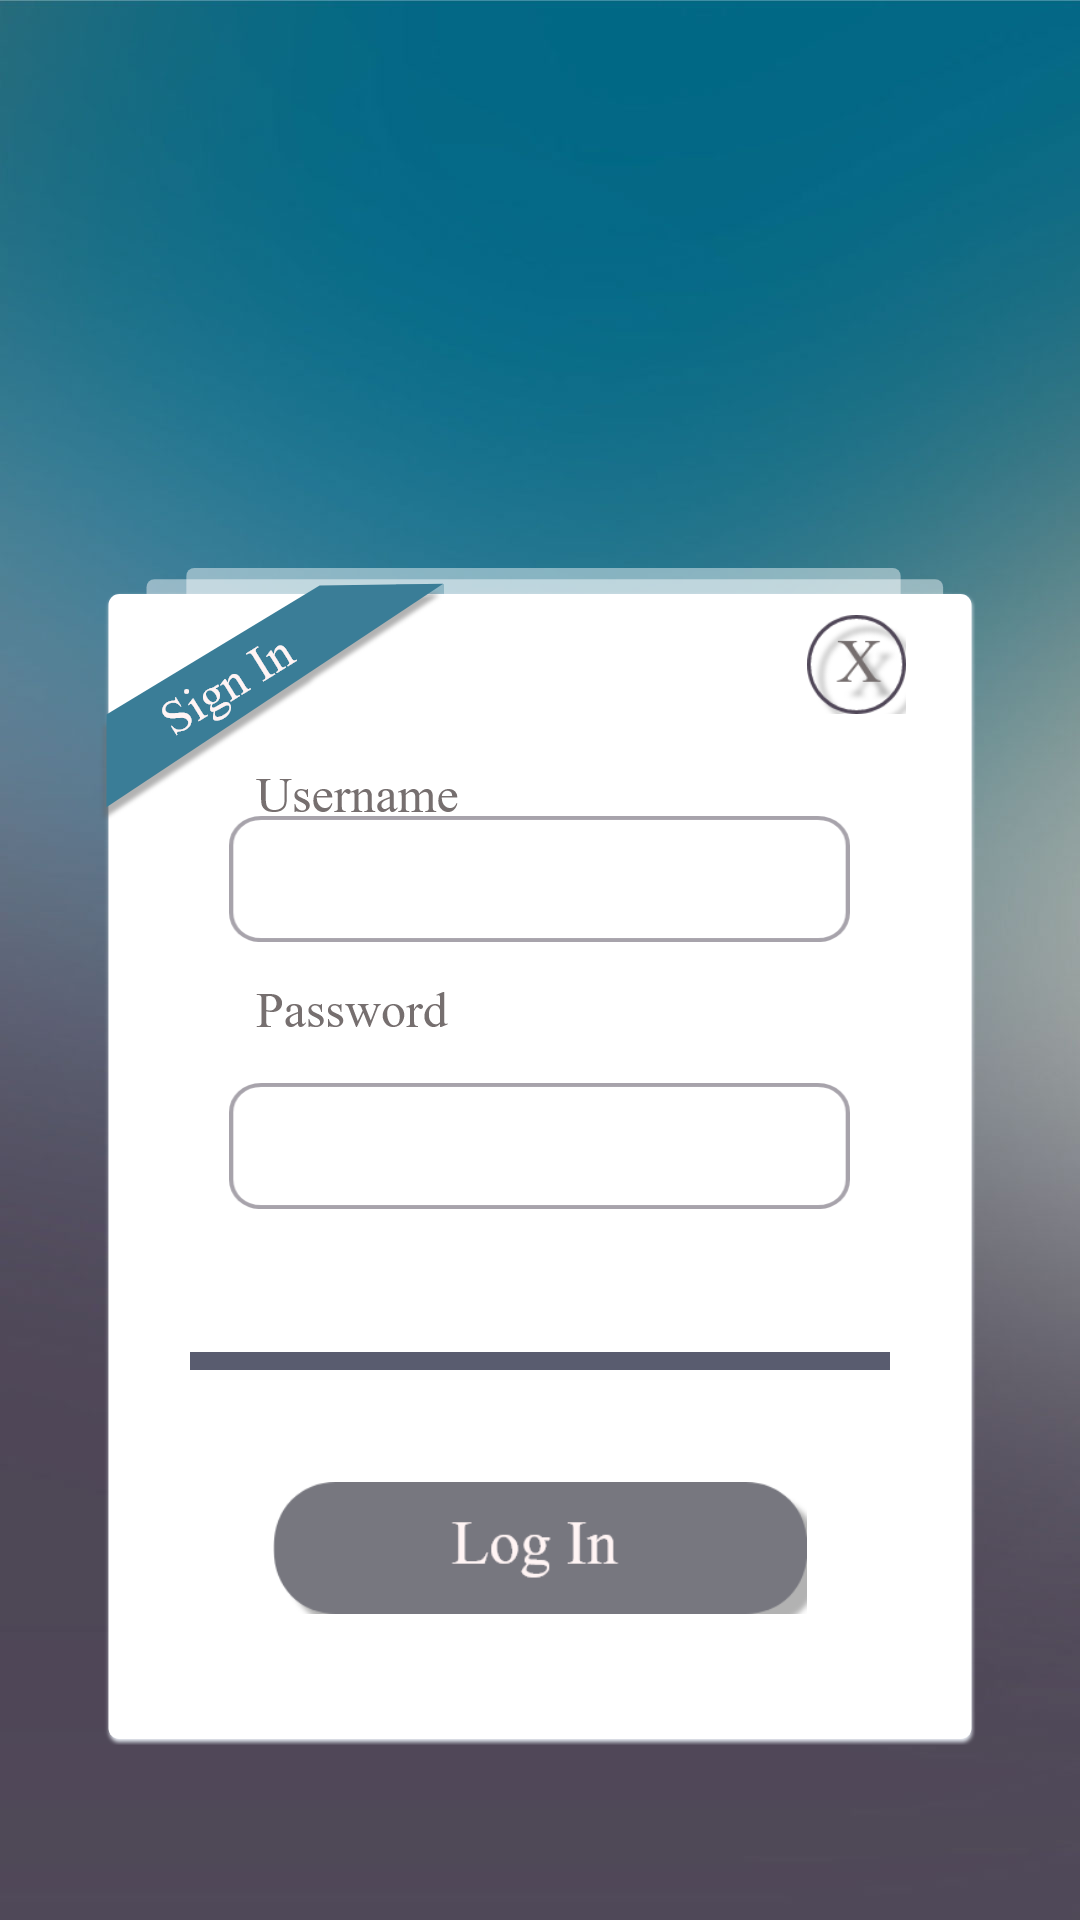

Icon click points for this 1080 x 1920 phone screenshot, format (x,y):
btnclose: (856,664)
